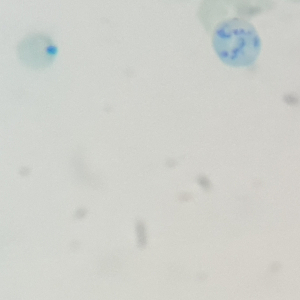aggregate reticulocyte: (210, 16, 264, 71)
erythrocyte: (15, 31, 60, 71)
